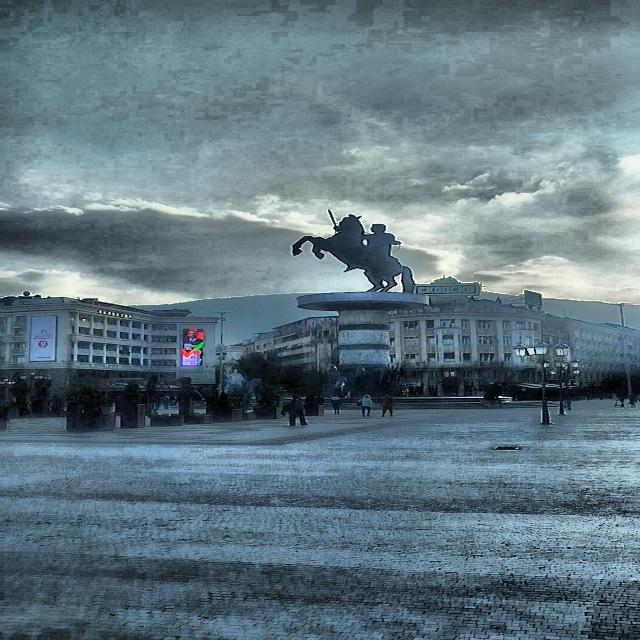alexander the great monument: (282, 212, 443, 411)
